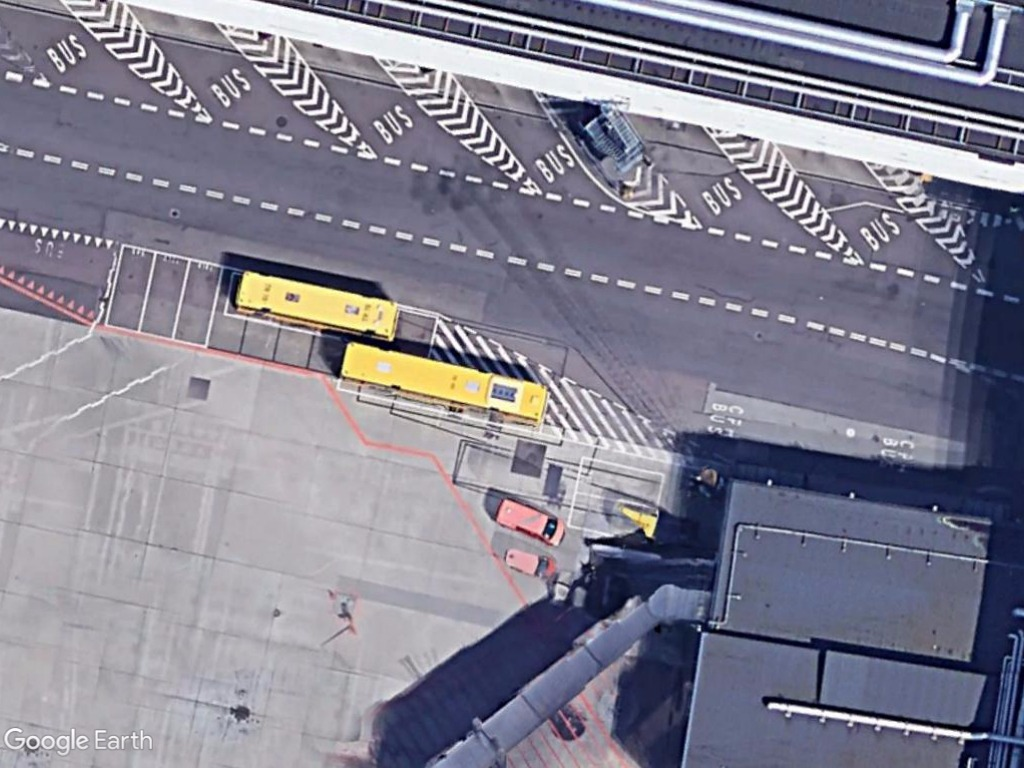bus: (329, 338, 555, 432), (228, 257, 421, 351)
van: (489, 492, 573, 553)
